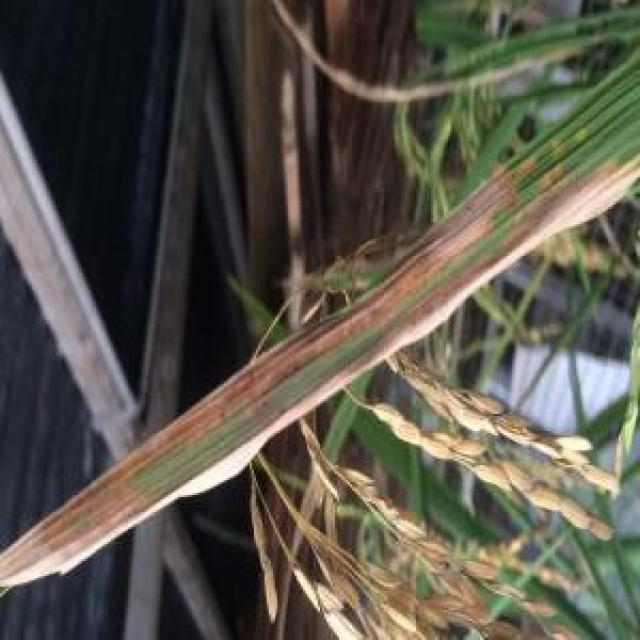leaf blight: (273, 87, 640, 352), (4, 354, 273, 587)
